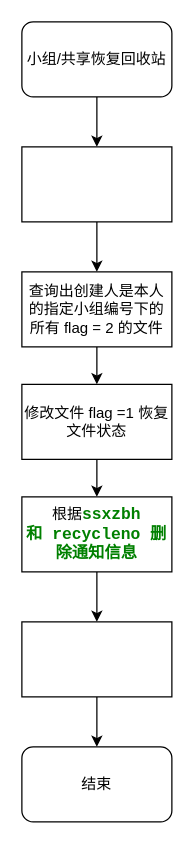
The diagram is 194 pixels wide and 844 high, and some of its shapes have lost their labels. The box of each missing label's shape, as (x1, y1, x2, y2) in pixels:
获取小组共享表: (21, 146, 172, 222)
返回恢复的数据列表: (21, 621, 172, 697)
